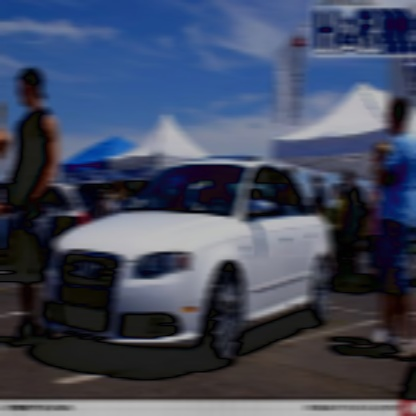Vehicle: (43, 157, 334, 370)
